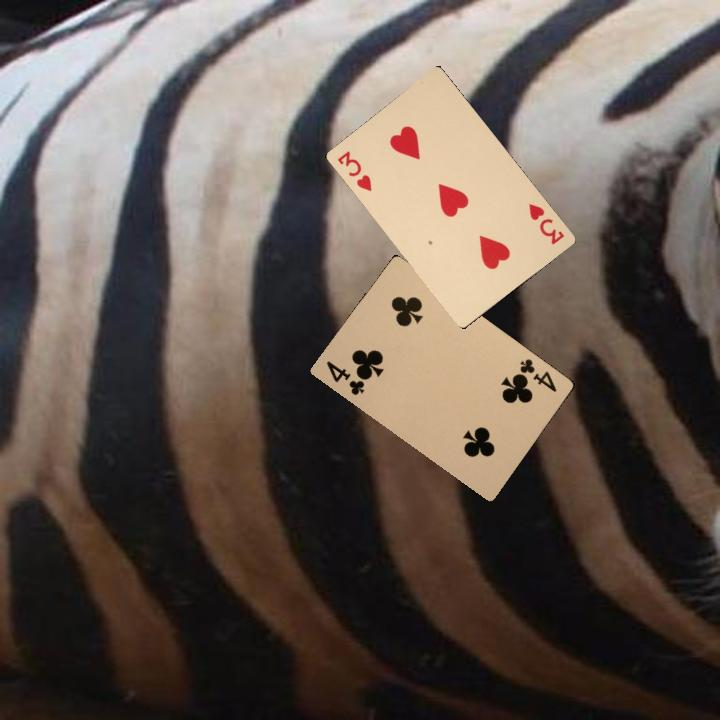3h: (524, 199, 567, 247), (333, 146, 374, 194)
4c: (322, 357, 368, 398), (514, 354, 559, 395)
